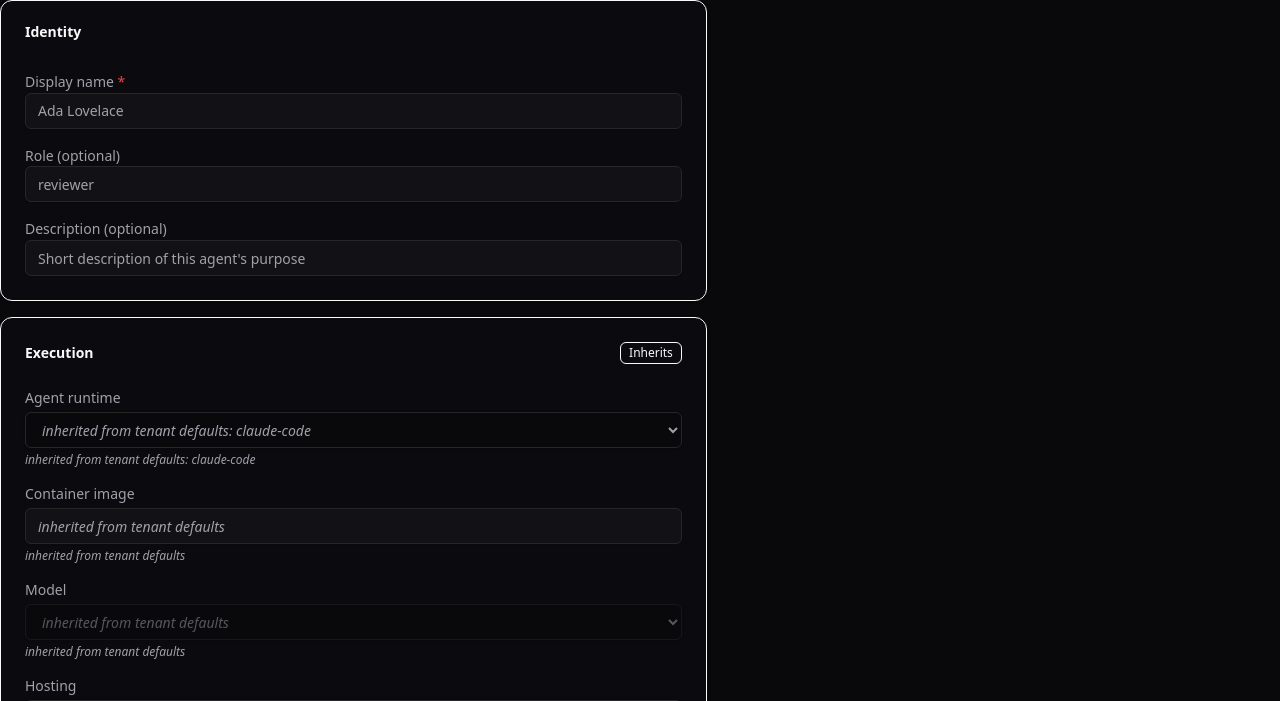
Test: AgentCreateForm — direct create submit (K6) › uses API-key credential status for codex + openai
Select "Codex (OpenAI)" in the dropdown named "agent runtime" at coordinates (353, 430), box [25, 412, 682, 448]
(page scrolled)
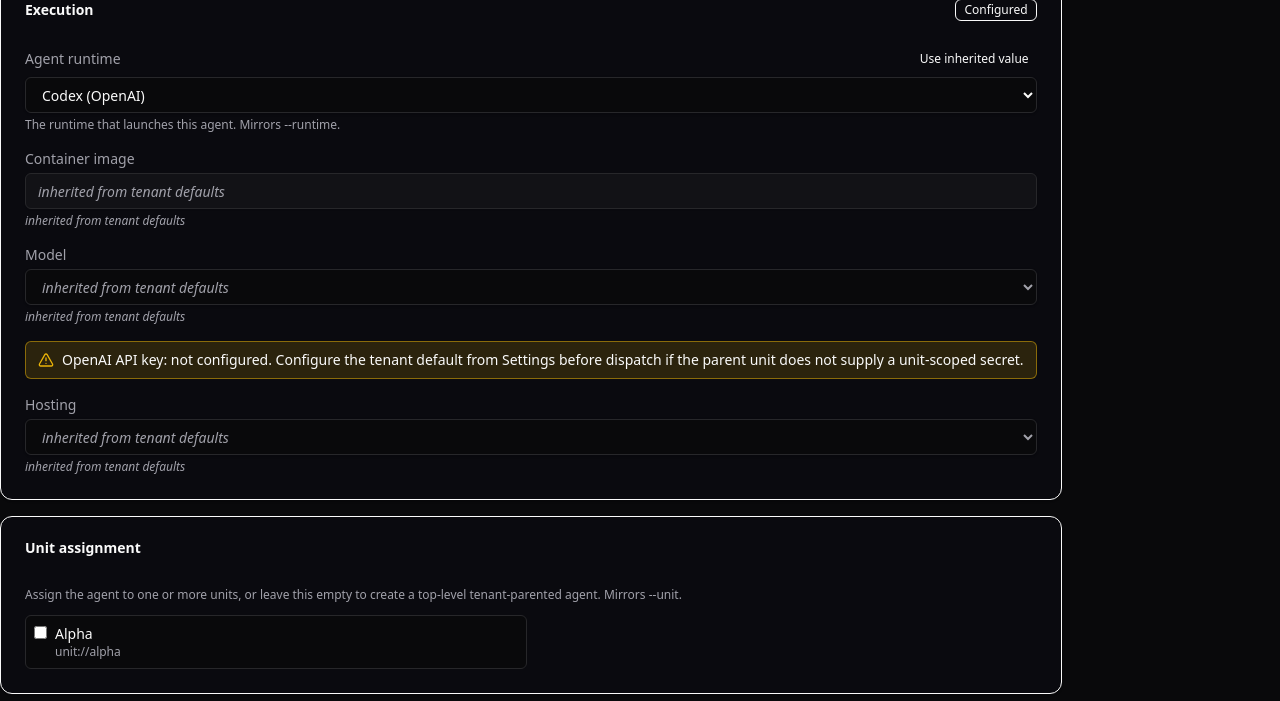
Check: the message with test id "agent-create-credential-status" shows "OpenAI API key", box [62, 350, 164, 369]
